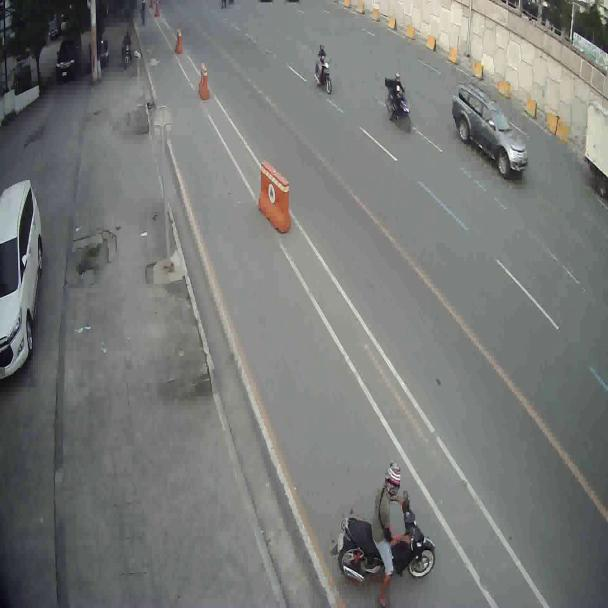motorcyclist: (332, 461, 446, 608), (382, 72, 411, 127), (314, 40, 334, 98)
vehicle: (2, 157, 42, 442), (450, 84, 528, 177)
